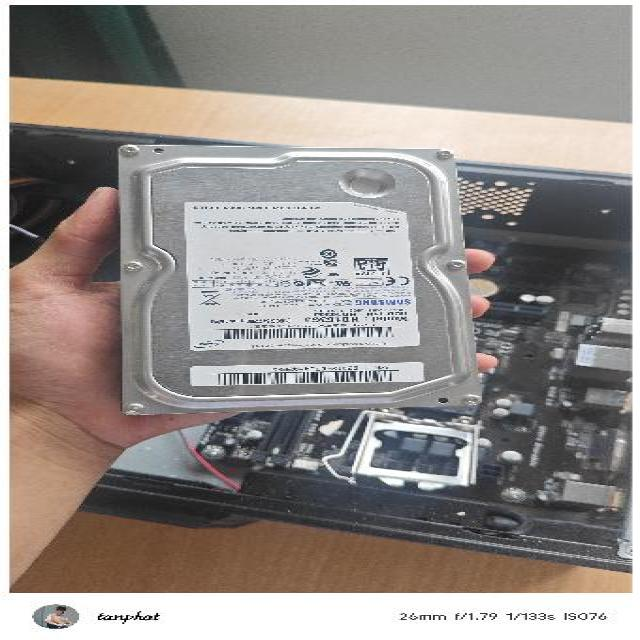DISK: (103, 140, 486, 414)
